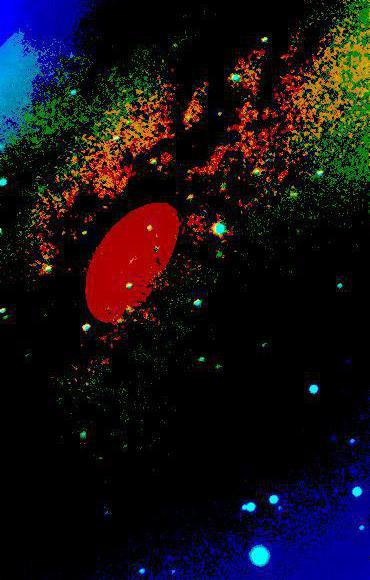star: (108, 427, 138, 457)
